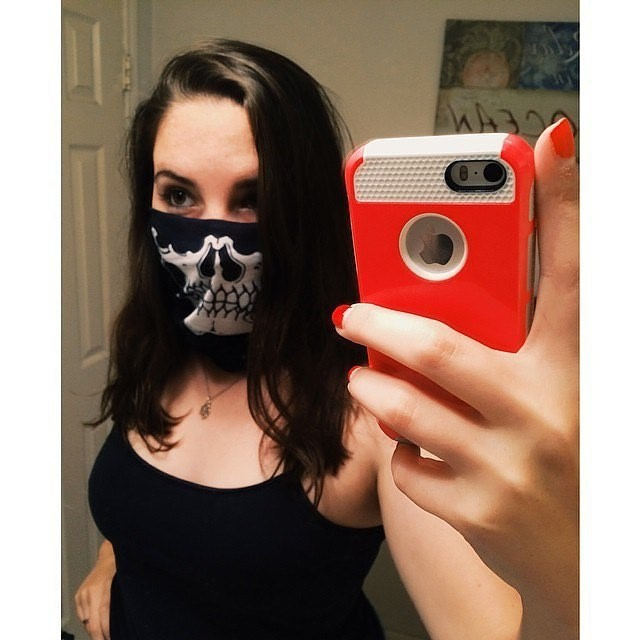face_with_mask: (138, 65, 314, 352)
